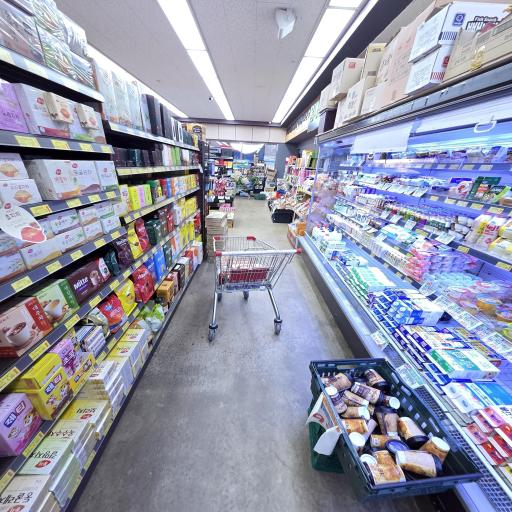fully_cart: (193, 231, 304, 346)
